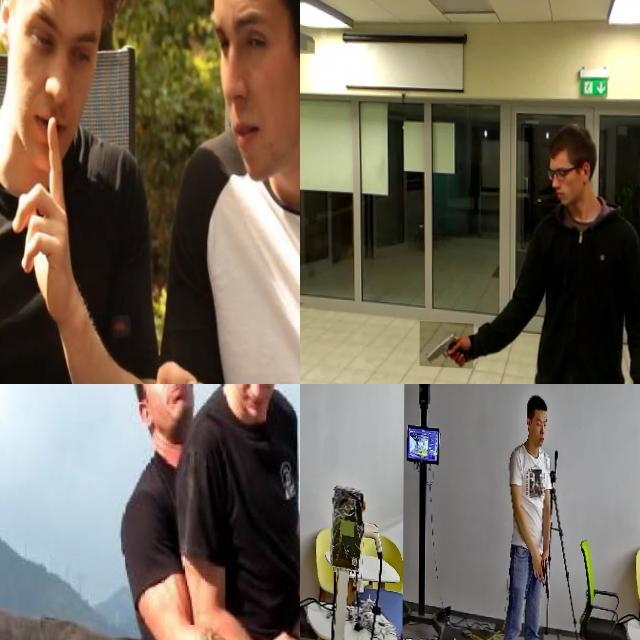gun-knife-thesis - v11 Yolov5 augmented: (420, 318, 475, 365), (535, 548, 551, 595), (543, 384, 568, 404), (300, 532, 308, 580), (300, 384, 310, 408)
